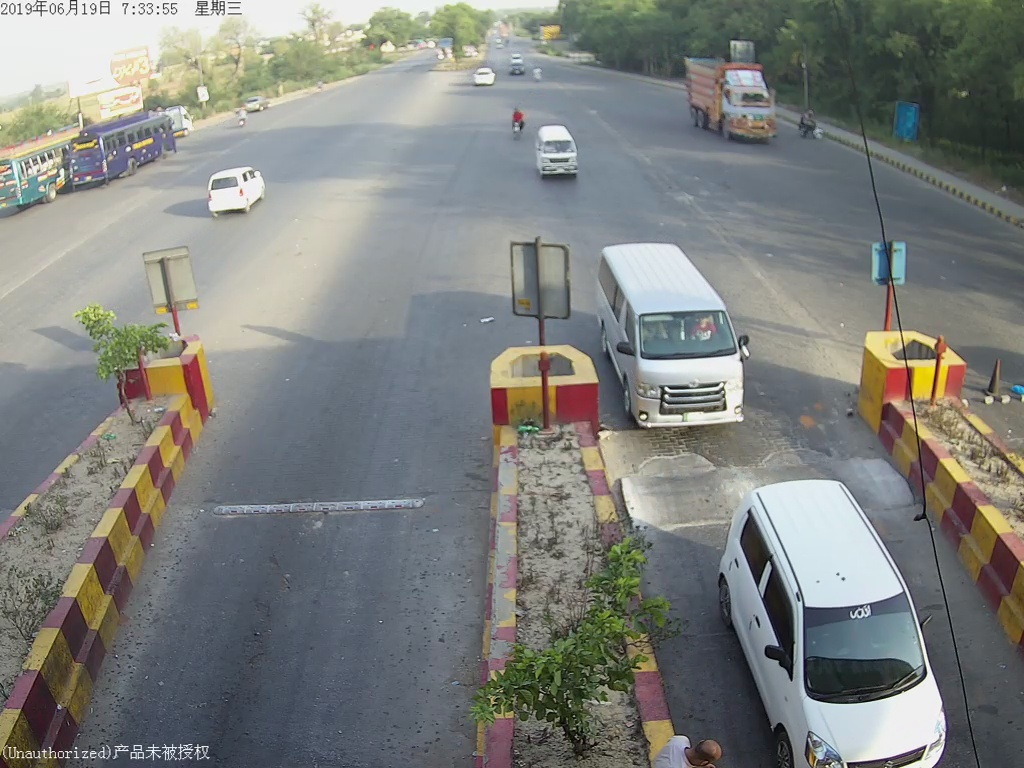Cat-1: (726, 488, 972, 768), (529, 122, 590, 185)
Cat-2: (592, 225, 748, 435)
